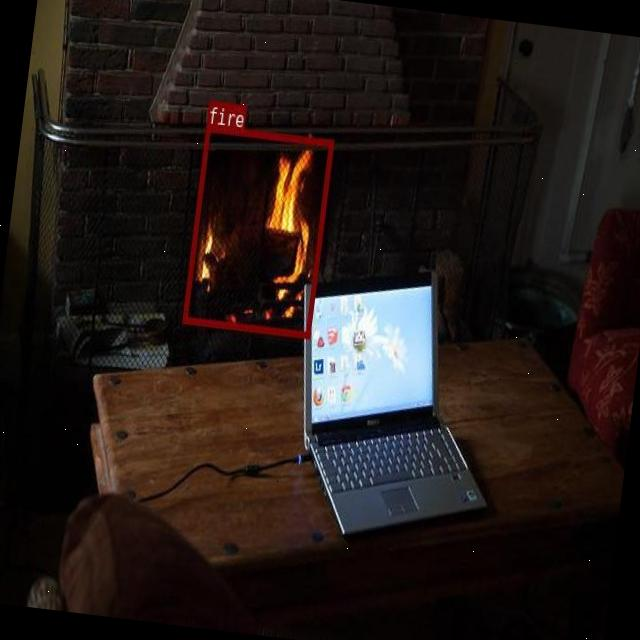fire: (182, 122, 333, 336)
